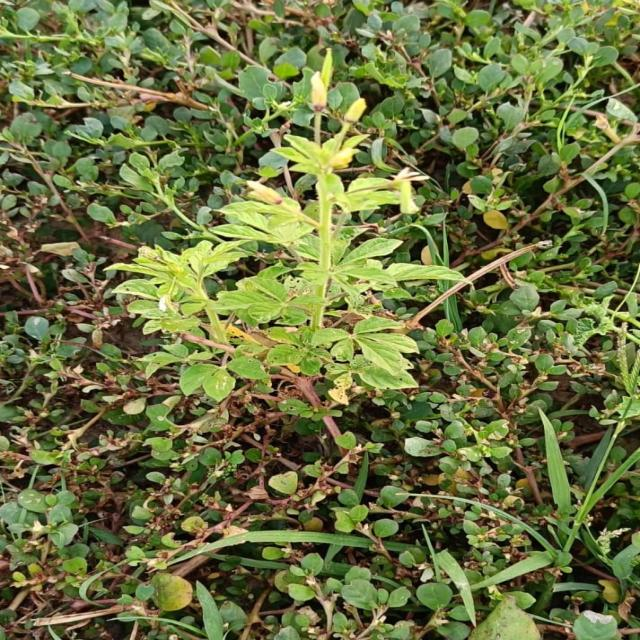weed: (108, 100, 463, 420)
